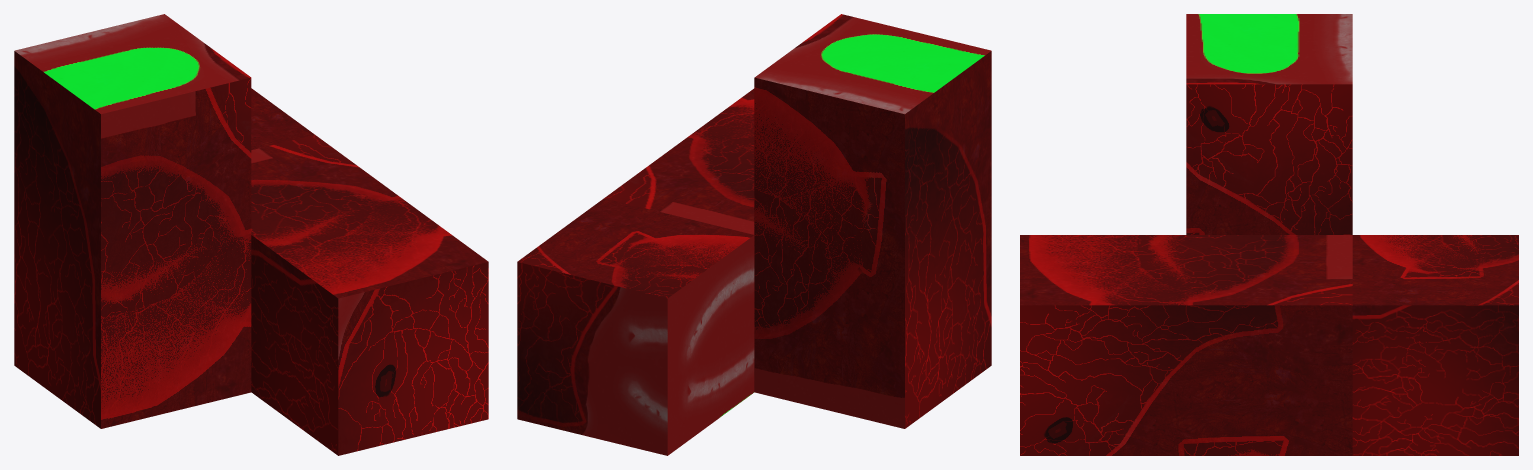
The model's file is TriangulatedTexturedBoxesWithHitboxes.fbx.
3 views of the same model, side by side, from view 1: azimuth 30°, elevation 25°; view 2: azimuth 150°, elevation 25°; view 3: azimuth 270°, elevation 25° (orthographic). The views are drawn at different scales.
Parts seen in each view (by area): view 1: StandingRectangle, Rectangle, Box; view 2: StandingRectangle, Box, Rectangle; view 3: Rectangle, Box, StandingRectangle.
Boxes of the visible parts, x1,y1,x2,y2 form: StandingRectangle: (14,14,251,428); Rectangle: (251,135,488,455); Box: (251,88,314,149); StandingRectangle: (754,14,991,428); Box: (517,198,754,455); Rectangle: (604,88,754,391); Rectangle: (1020,235,1352,455); Box: (1352,235,1518,455); StandingRectangle: (1186,14,1352,234).
Size of what is drawn, in the model's own units: 4 by 4 by 6.
